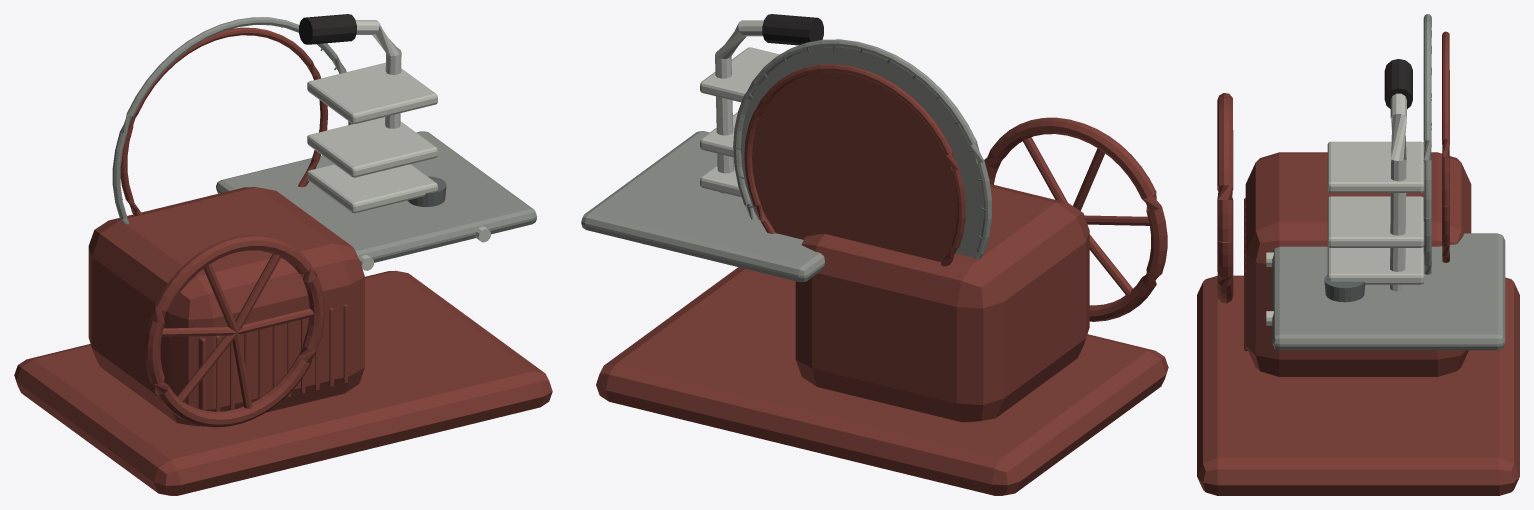
File: slicer.glb
The picture shows the model from 3 angles, left to right: view 1: azimuth 30°, elevation 25°; view 2: azimuth 150°, elevation 25°; view 3: azimuth 270°, elevation 25°; orthographic projection. The views are drawn at different scales.
Parts seen in each view (by area): view 1: 실내 조명 베이크용 slicer; view 2: 실내 조명 베이크용 slicer; view 3: 실내 조명 베이크용 slicer.
Boxes of the visible parts, box(x1,y1,x2,y2) form: 실내 조명 베이크용 slicer: box(14, 14, 552, 495); 실내 조명 베이크용 slicer: box(581, 14, 1168, 495); 실내 조명 베이크용 slicer: box(1197, 14, 1519, 495).
Bounding box in the file's own units: 0.7339 × 0.6058 × 0.48.
